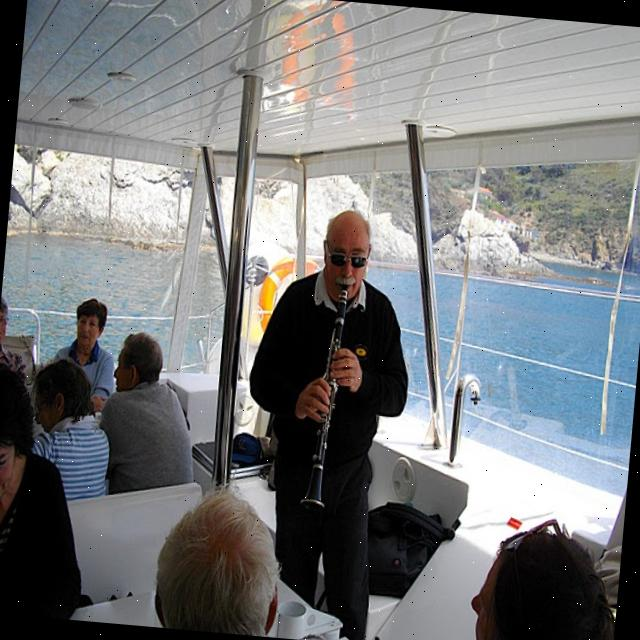clarinet: (294, 281, 356, 518)
